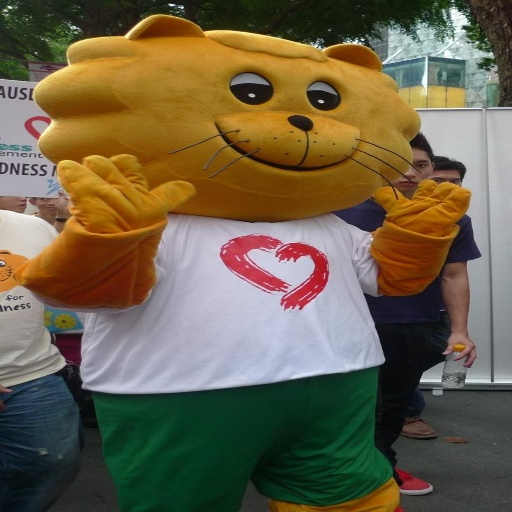hand: (55, 153, 197, 227), (369, 176, 472, 237), (439, 332, 480, 368)
